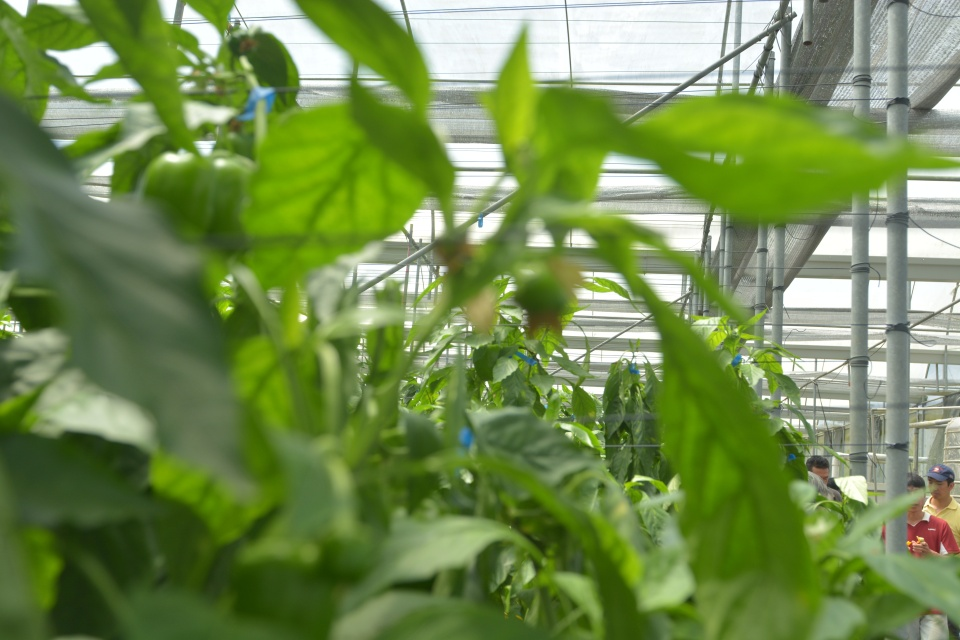fruit: (138, 147, 262, 255)
